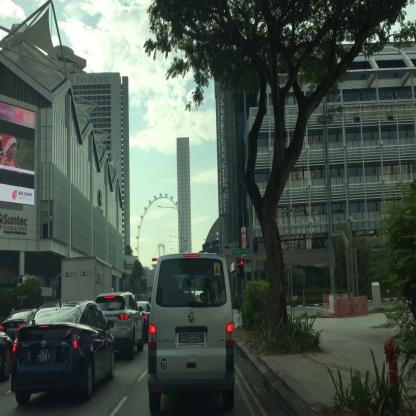red_traffic_light: (240, 260, 243, 276), (152, 258, 156, 261)
